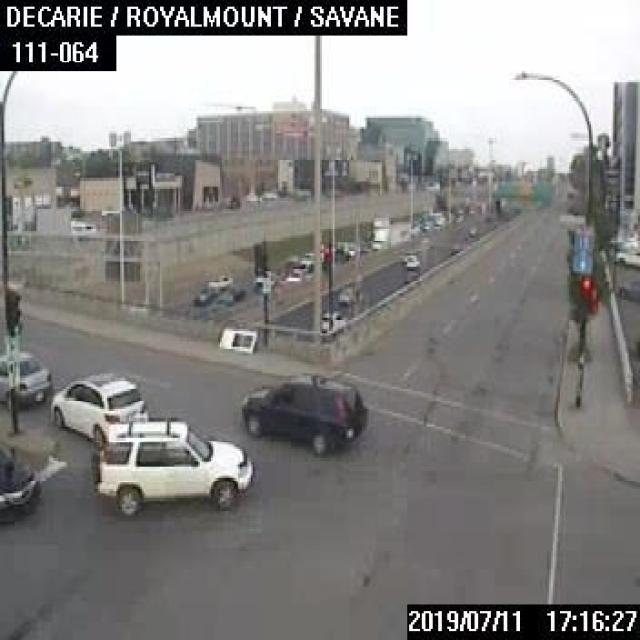vehicle: (90, 416, 252, 516), (240, 371, 365, 458), (47, 369, 147, 442), (0, 350, 51, 410), (0, 453, 40, 520), (371, 221, 412, 252), (214, 284, 244, 304), (611, 245, 638, 266), (618, 273, 638, 301), (320, 310, 346, 329), (205, 273, 233, 289), (337, 283, 355, 305), (192, 286, 215, 302), (404, 252, 416, 270)
